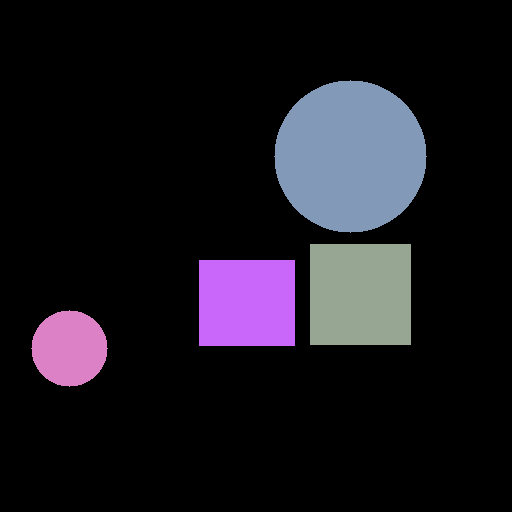circle: (274, 80, 426, 232), (31, 310, 107, 386)
rectangle: (199, 260, 294, 345)
square: (310, 244, 410, 344)
